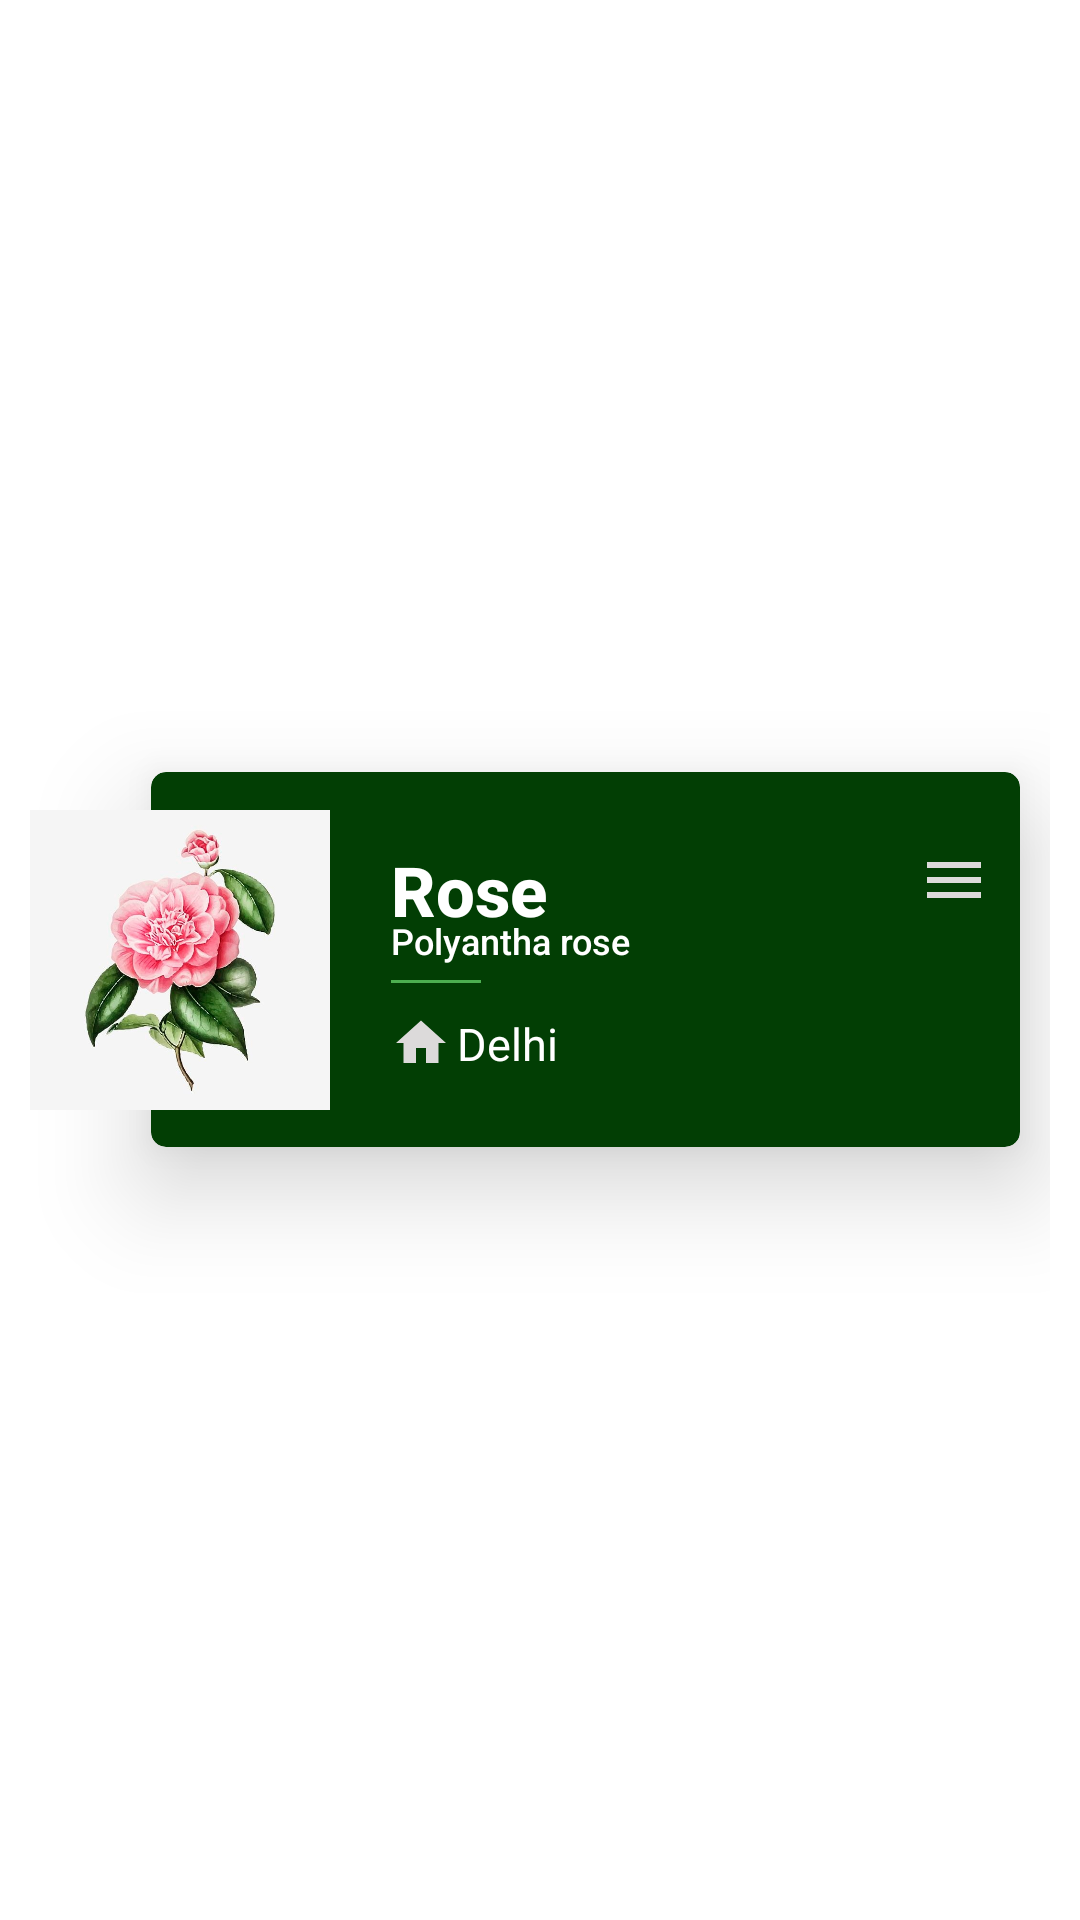

Icon click points for this 1080w x 1920h phone screenshot, format [x,y]:
home: [421,1041]
